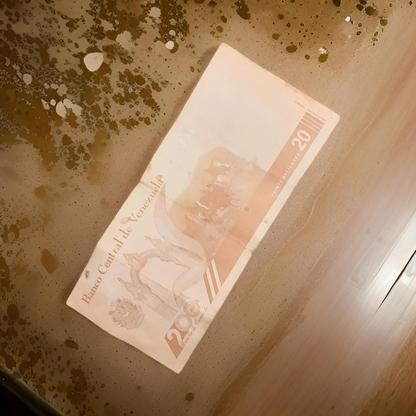twenty-back-vef: (65, 43, 341, 374)
